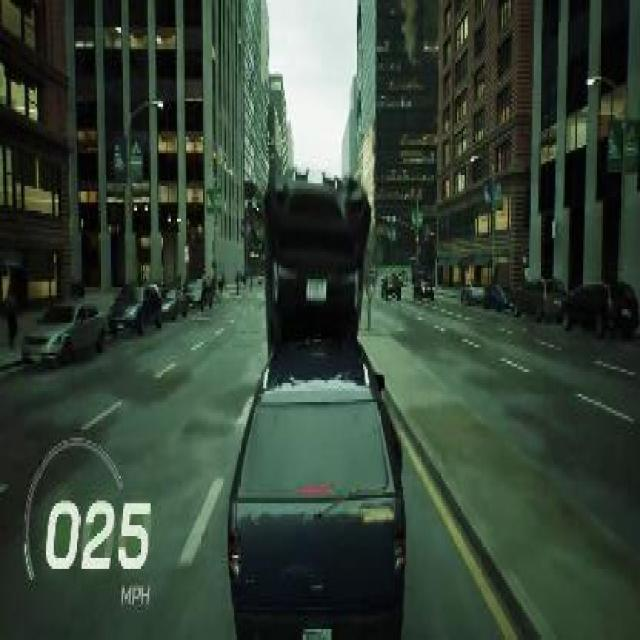accident: (216, 150, 410, 638)
